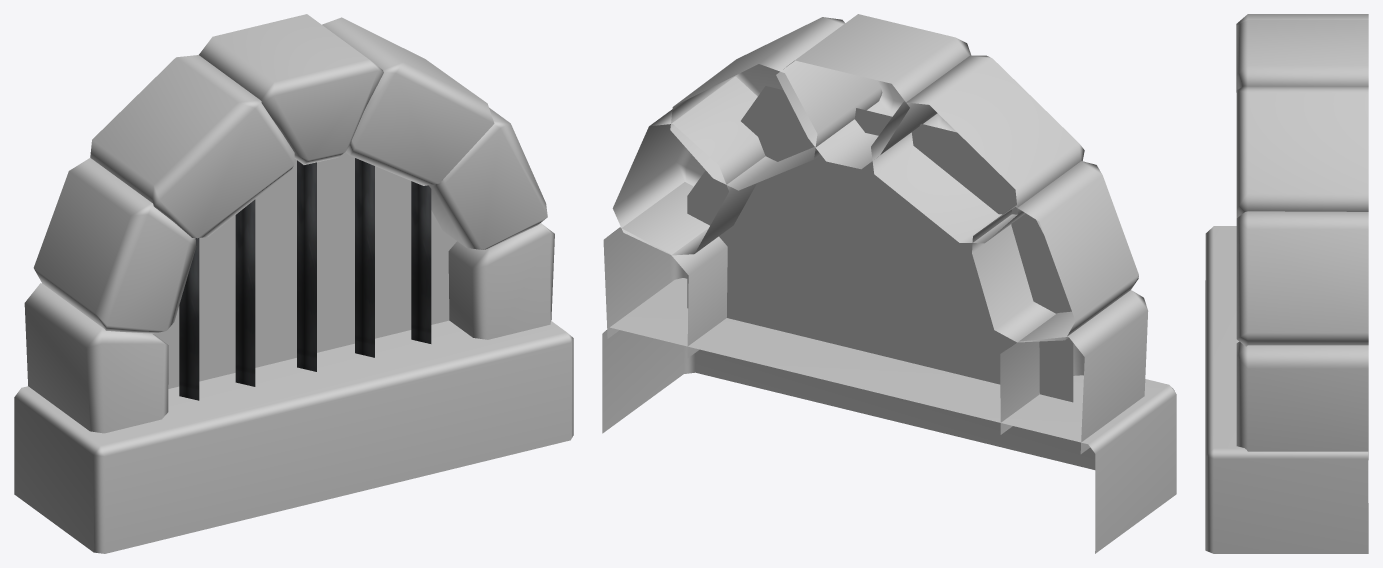
The model's file is SewerDrain.fbx.
3 views of the same model, side by side, from view 1: azimuth 30°, elevation 25°; view 2: azimuth 150°, elevation 25°; view 3: azimuth 270°, elevation 25° (orthographic). The views are drawn at different scales.
Parts seen in each view (by area): view 1: Mesh; view 2: Mesh; view 3: Mesh.
Part boxes in pixels (x1,y1,x2,y2): Mesh: (14,14,573,553); Mesh: (602,14,1176,553); Mesh: (1205,14,1368,553).
Bounding box in the file's own units: 134 × 109 × 40.38.
